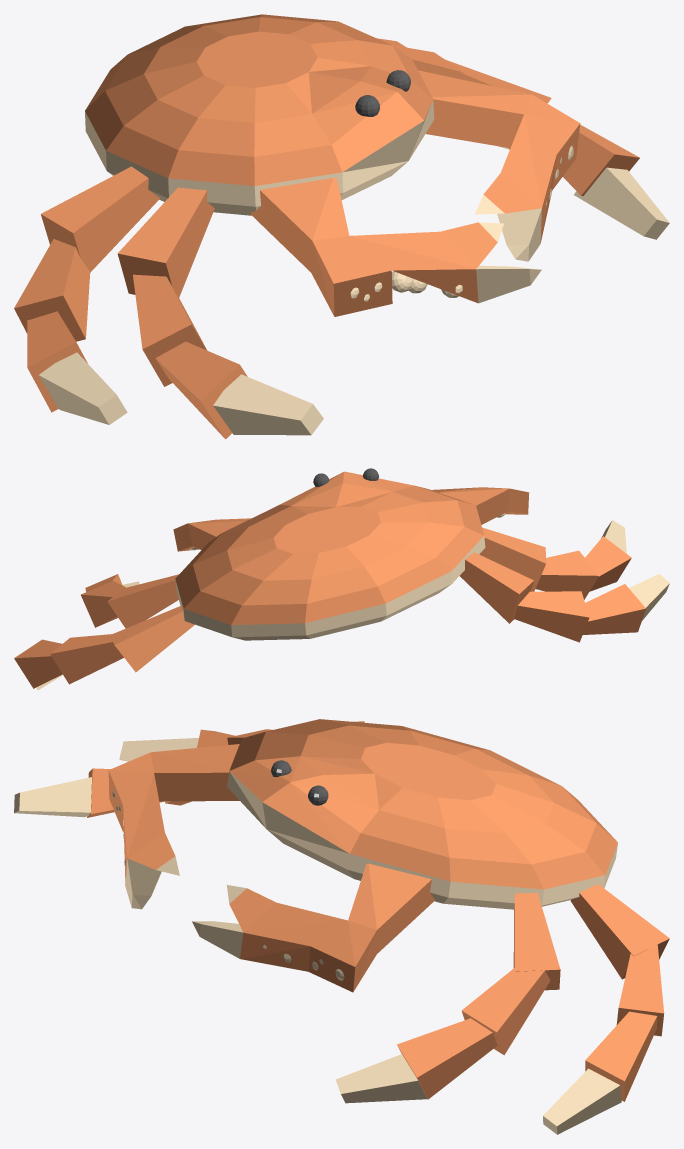
Rendered from Crab.glb.
3 views of the same model, one above another, from view 1: azimuth 30°, elevation 25°; view 2: azimuth 150°, elevation 25°; view 3: azimuth 270°, elevation 25° (orthographic). The views are drawn at different scales.
Visible parts, largest first — view 1: Mesh; view 2: Mesh; view 3: Mesh.
Boxes of the visible parts, x1,y1,x2,y2 form: Mesh: [14, 14, 669, 439]; Mesh: [14, 468, 669, 690]; Mesh: [14, 719, 669, 1134].
Size of the model in its own units: 1.64 by 0.5779 by 1.5.
